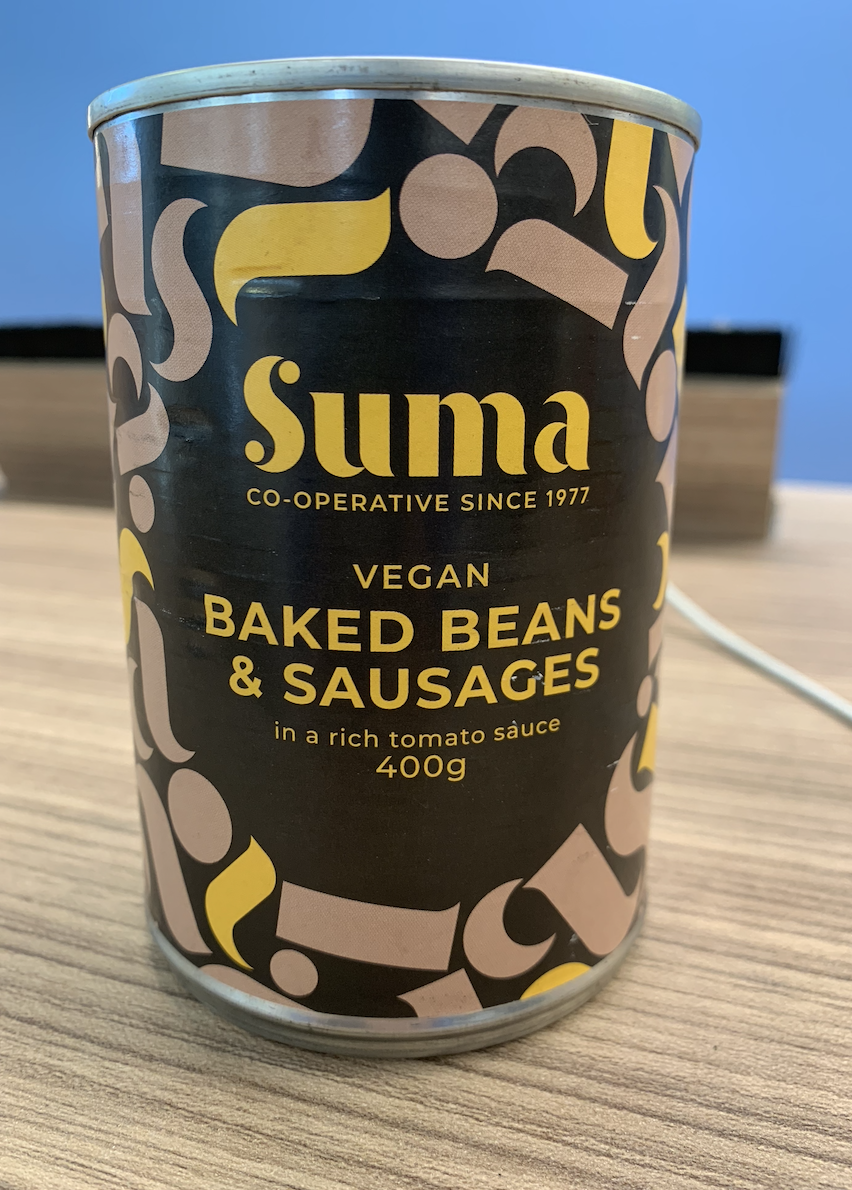Baked beans_450g: (143, 99, 678, 999)
